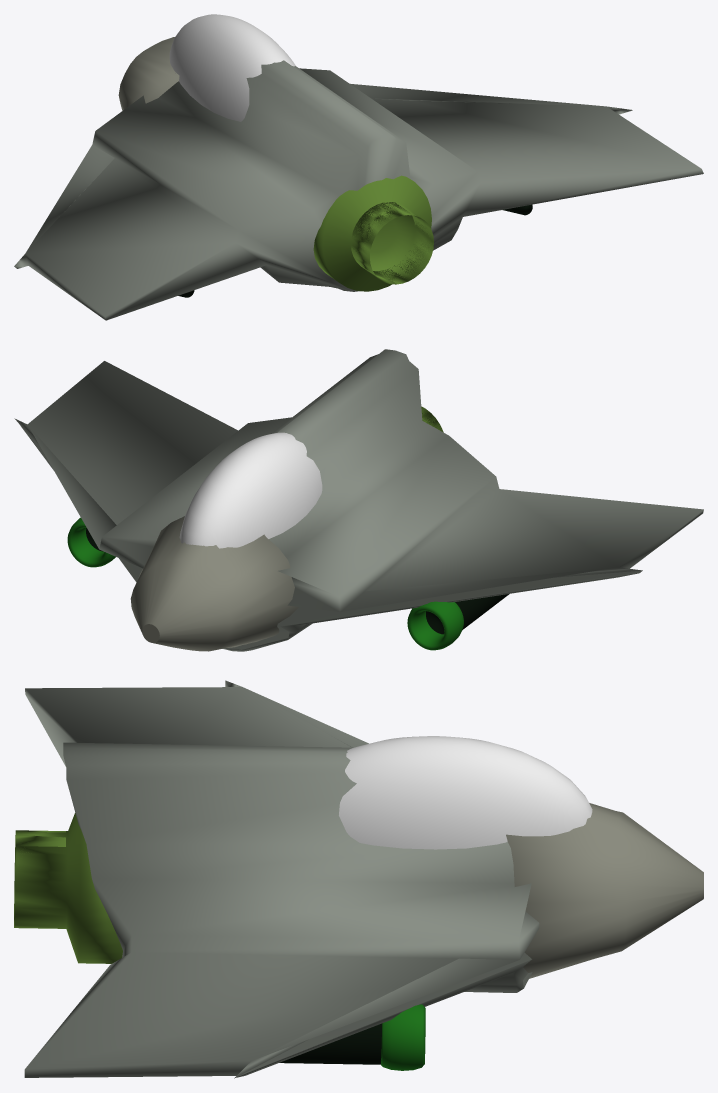
Rendered from Military_Rockett.fbx.
3 renders of one model, top to bottom at view 1: azimuth 30°, elevation 25°; view 2: azimuth 150°, elevation 25°; view 3: azimuth 270°, elevation 25°, orthographic. The views are drawn at different scales.
Visible parts, largest first — view 1: badan, roket, Sphere, pucuk pesawat; view 2: badan, pucuk pesawat, Sphere, baling", badan baling"; view 3: badan, Sphere, pucuk pesawat, roket, baling", badan baling".
Part boxes in pixels (x1=…): badan: x1=14, y1=60, x2=703, y2=320; roket: x1=313, y1=175, x2=433, y2=291; Sphere: x1=169, y1=14, x2=295, y2=121; pucuk pesawat: x1=118, y1=37, x2=179, y2=110; badan: x1=14, y1=349, x2=703, y2=651; pucuk pesawat: x1=130, y1=516, x2=298, y2=651; Sphere: x1=179, y1=432, x2=322, y2=548; baling": x1=67, y1=517, x2=463, y2=650; badan baling": x1=86, y1=528, x2=509, y2=634; badan: x1=24, y1=680, x2=539, y2=1078; Sphere: x1=339, y1=736, x2=592, y2=849; pucuk pesawat: x1=506, y1=803, x2=703, y2=978; roket: x1=14, y1=813, x2=122, y2=963; baling": x1=381, y1=1004, x2=425, y2=1070; badan baling": x1=279, y1=1023, x2=381, y2=1064.
Size of the model in its own units: 1054 by 287 by 767.
